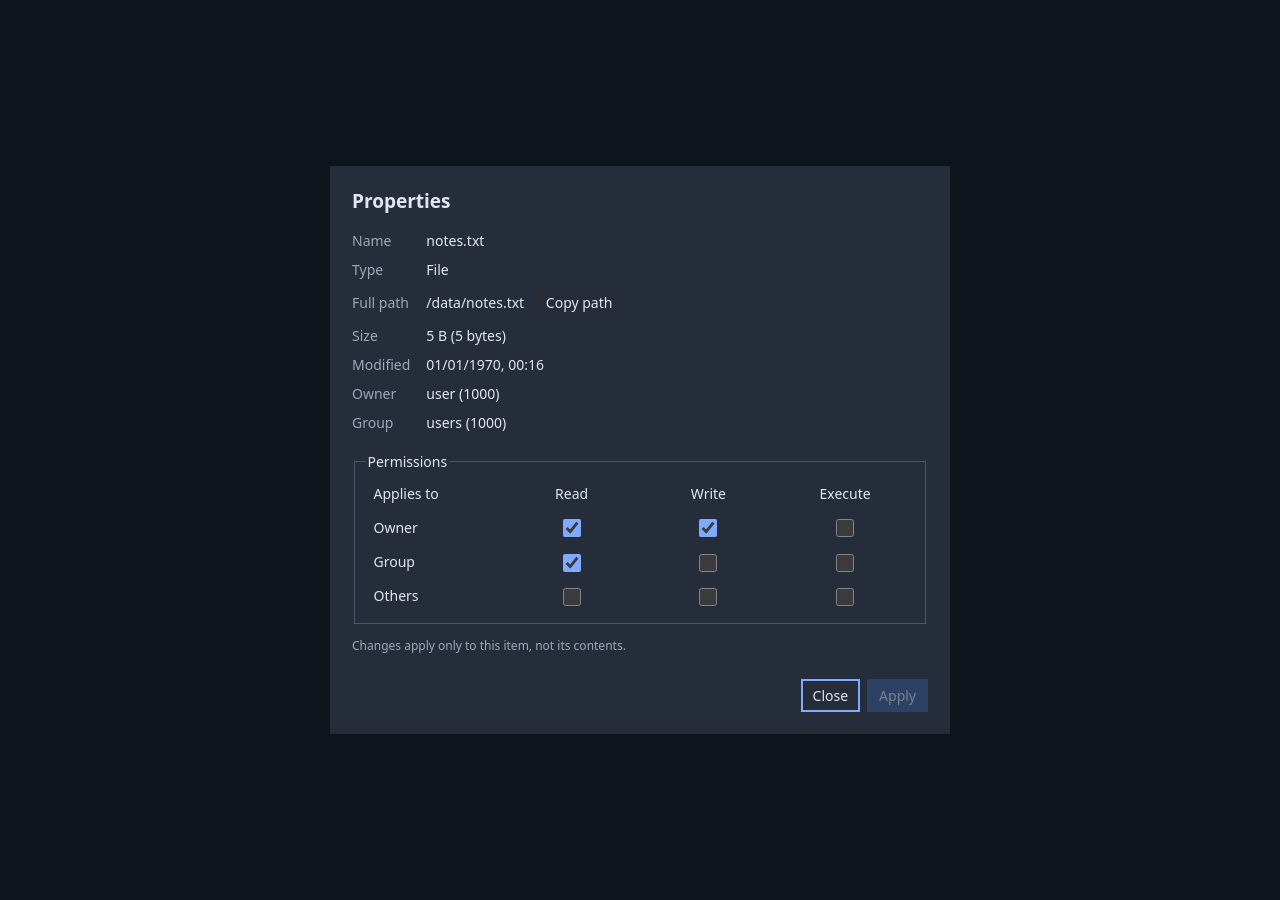
Test: applies Unix permissions and refreshes without closing the dialog
The width and height of the screenshot is (1280, 900).
Click the checkbox named "Owner execute".
click(845, 528)  # box [836,519,854,537]
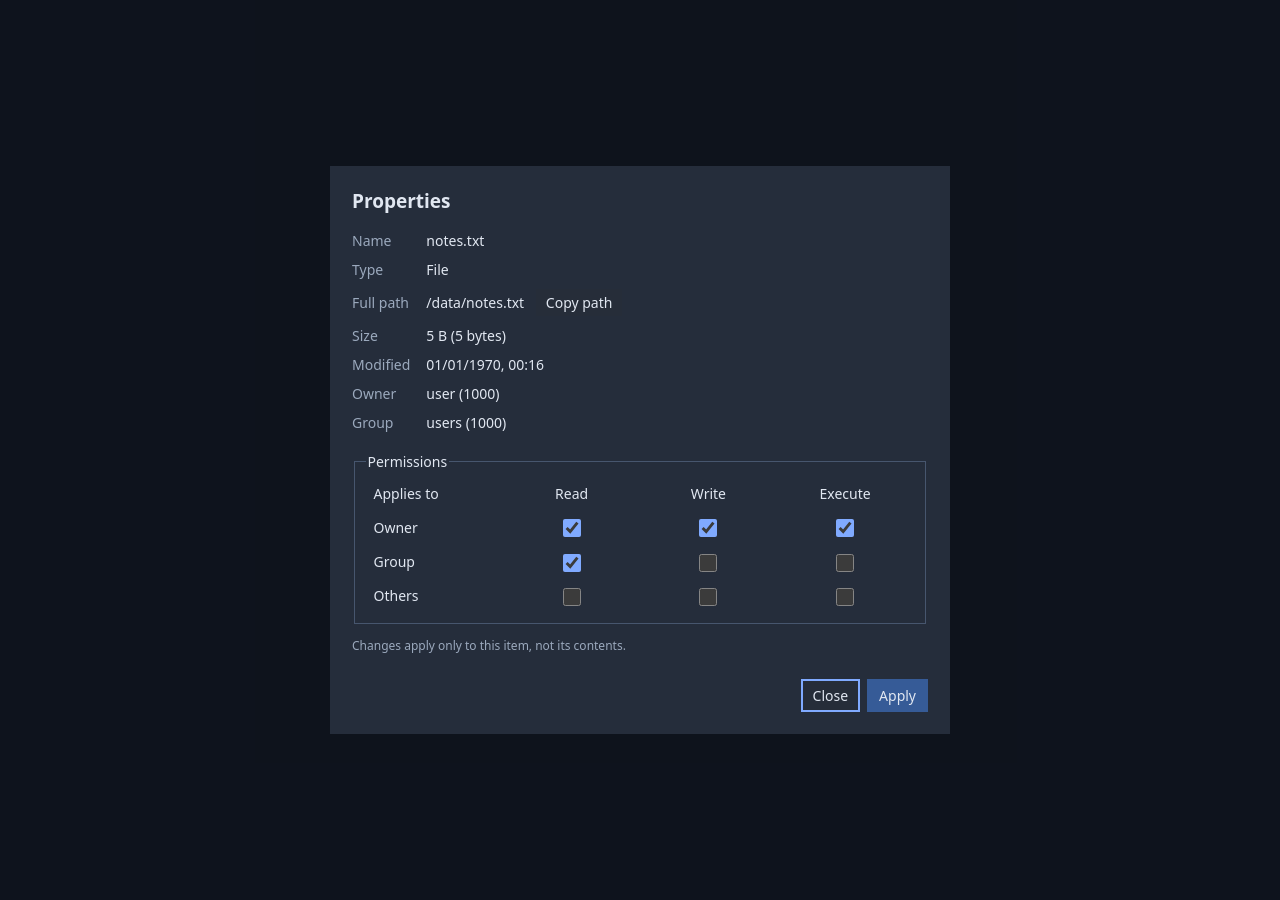
Click the button "Apply".
click(898, 695)  # box [867,679,928,712]
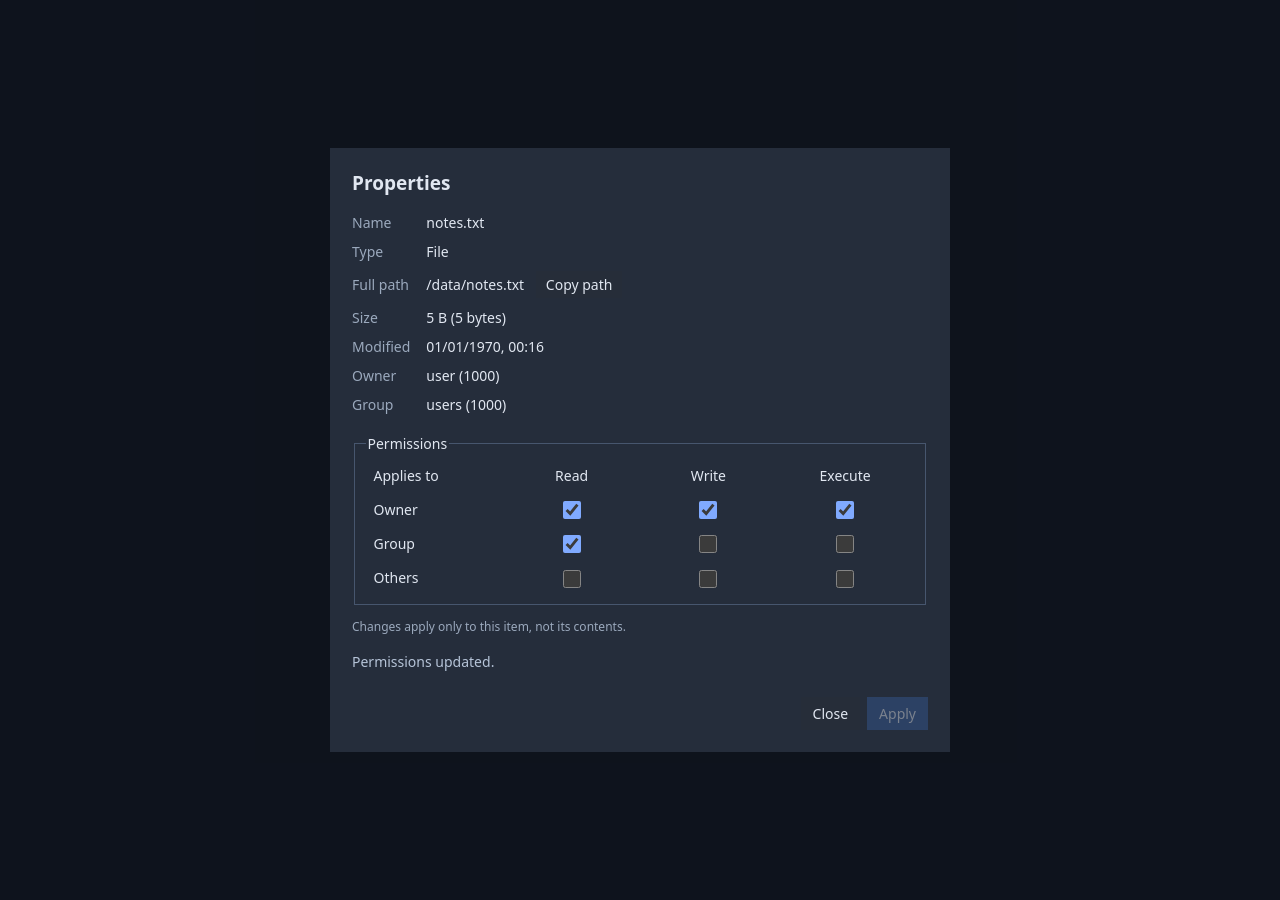
Result: the button "Apply" is disabled at [867,697,928,730]
Result: the text "Permissions updated." is shown at [352,652,494,671]
